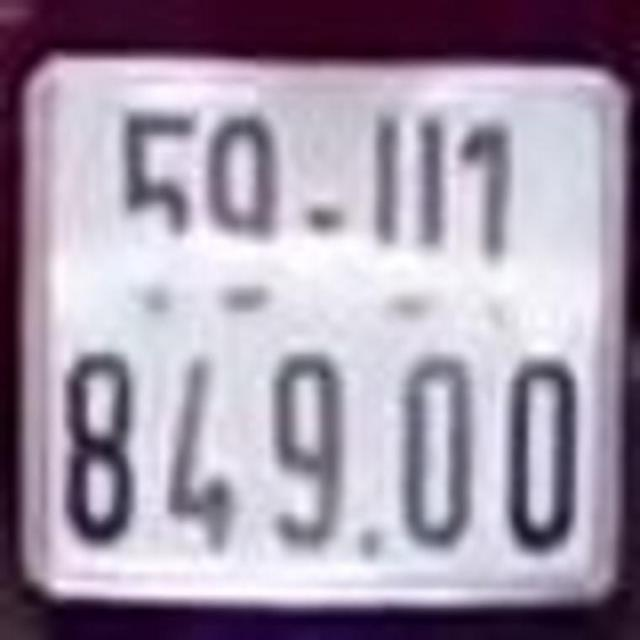0: (506, 359, 579, 552), (402, 354, 473, 552)
1: (462, 120, 520, 322)
4: (170, 352, 241, 557)
5: (120, 111, 196, 314)
8: (59, 352, 145, 547)
9: (207, 114, 280, 320), (270, 356, 344, 546)
U: (374, 110, 450, 324)
